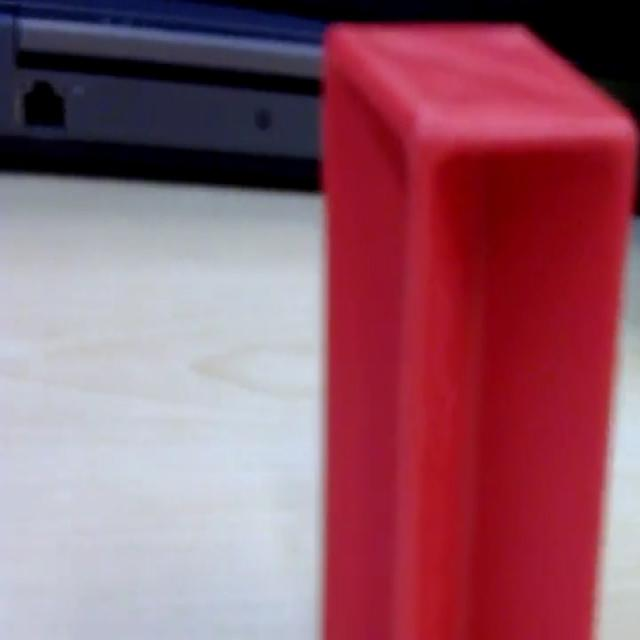red_block: (319, 20, 636, 636)
